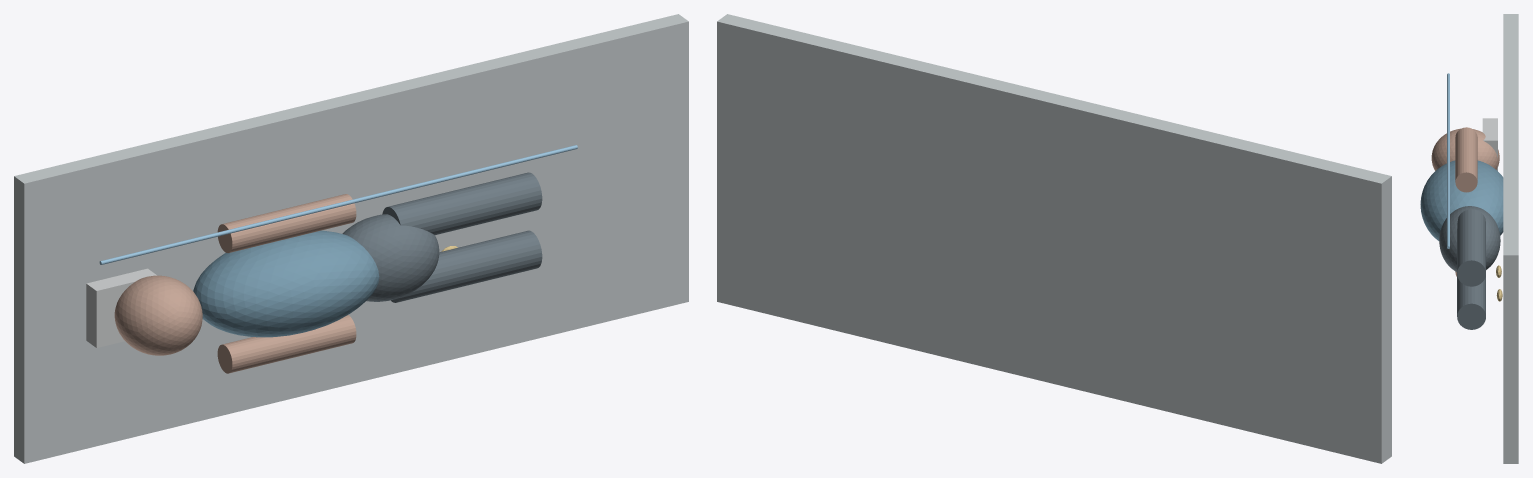
Rendered from lateral-high.glb.
3 renders of one model, left to right at view 1: azimuth 30°, elevation 25°; view 2: azimuth 150°, elevation 25°; view 3: azimuth 270°, elevation 25°, orthographic. The views are drawn at different scales.
Parts seen in each view (by area): view 1: reference_surface, torso, head, right_leg, pelvis, left_leg, right_arm, left_arm, head_support_proxy, alignment_axis_proxy; view 2: reference_surface; view 3: reference_surface, torso, right_leg, pelvis, right_arm, left_leg, head, alignment_axis_proxy, head_support_proxy.
Part boxes in pixels (x1,y1,x2,y2): reference_surface: (14,14,688,463); torso: (193,230,379,337); head: (114,275,202,355); right_leg: (382,172,542,235); pelvis: (342,214,439,301); left_leg: (391,230,542,302); right_arm: (217,194,356,253); left_arm: (217,315,356,373); head_support_proxy: (86,268,156,347); alignment_axis_proxy: (99,145,577,264); reference_surface: (717,14,1391,463); reference_surface: (1503,14,1518,463); torso: (1420,160,1503,240); right_leg: (1457,209,1485,286); pelvis: (1439,206,1500,271); right_arm: (1455,127,1477,192); left_leg: (1457,274,1485,329); head: (1431,128,1499,170); alignment_axis_proxy: (1447,73,1449,248); head_support_proxy: (1482,118,1497,170).
Bounding box in the file's own units: 6.7 × 2.7 × 1.15.
